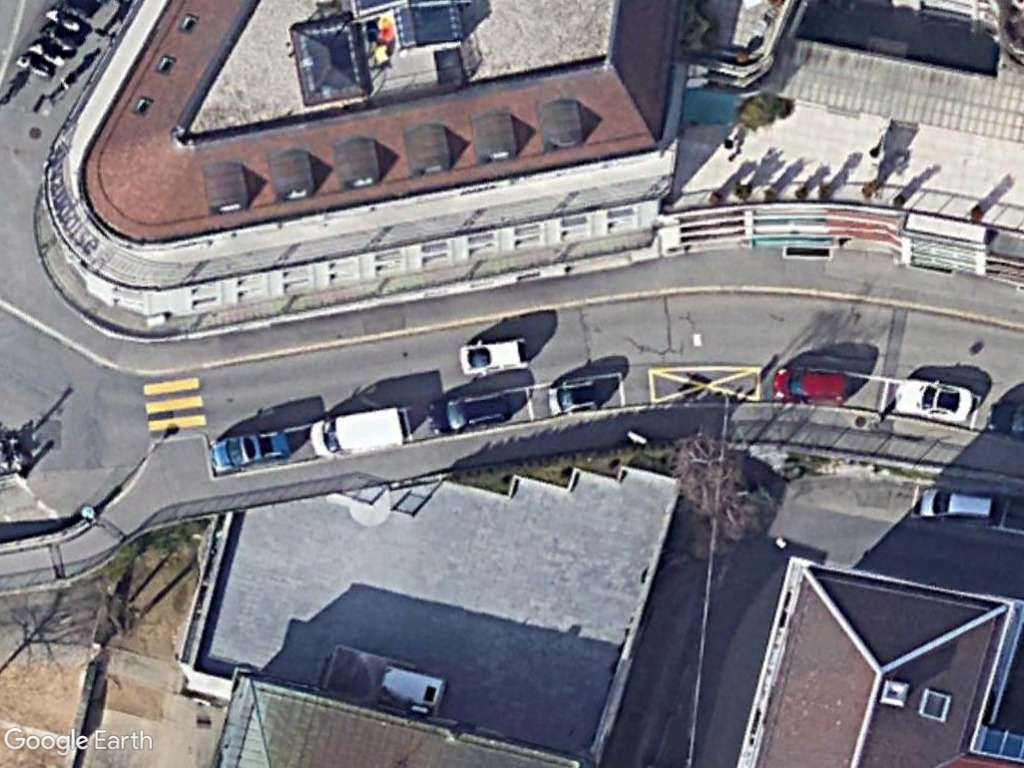car: (892, 376, 978, 423), (915, 485, 999, 525), (456, 335, 535, 377), (770, 366, 854, 405)
van: (310, 403, 407, 458)
